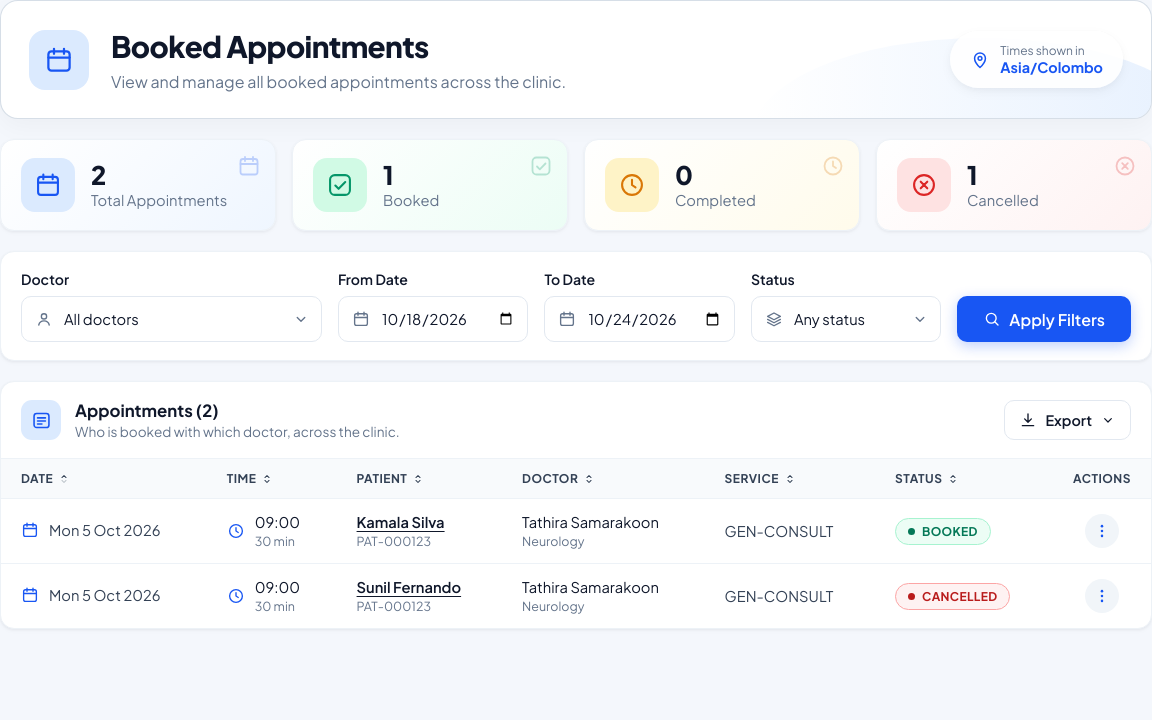
Test: ClinicAppointmentsPage › filters by status without asking the service again
The image size is (1152, 720).
Check: the link "Sunil Fernando" is shown, box [357,578,461,596]
Select "Booked" in the dropdown labelled "Status" at (846, 319), box [751,296,941,342]
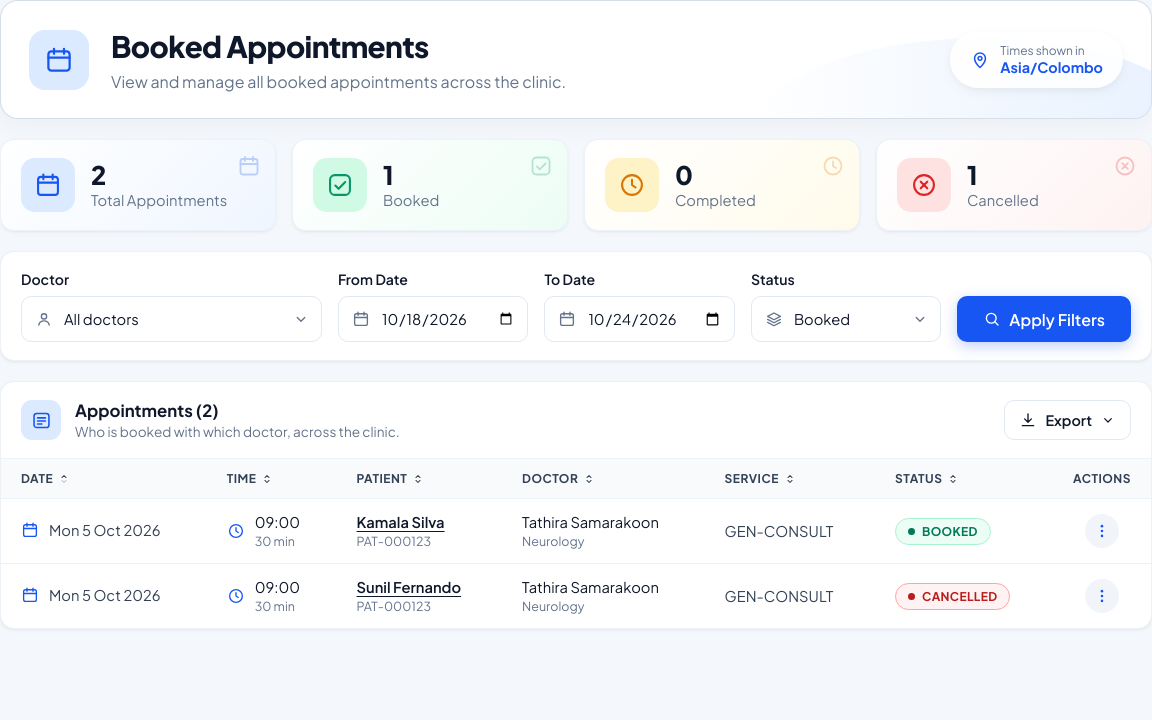
Click the button "Apply Filters" at (1044, 319), box [957,296,1131,342]
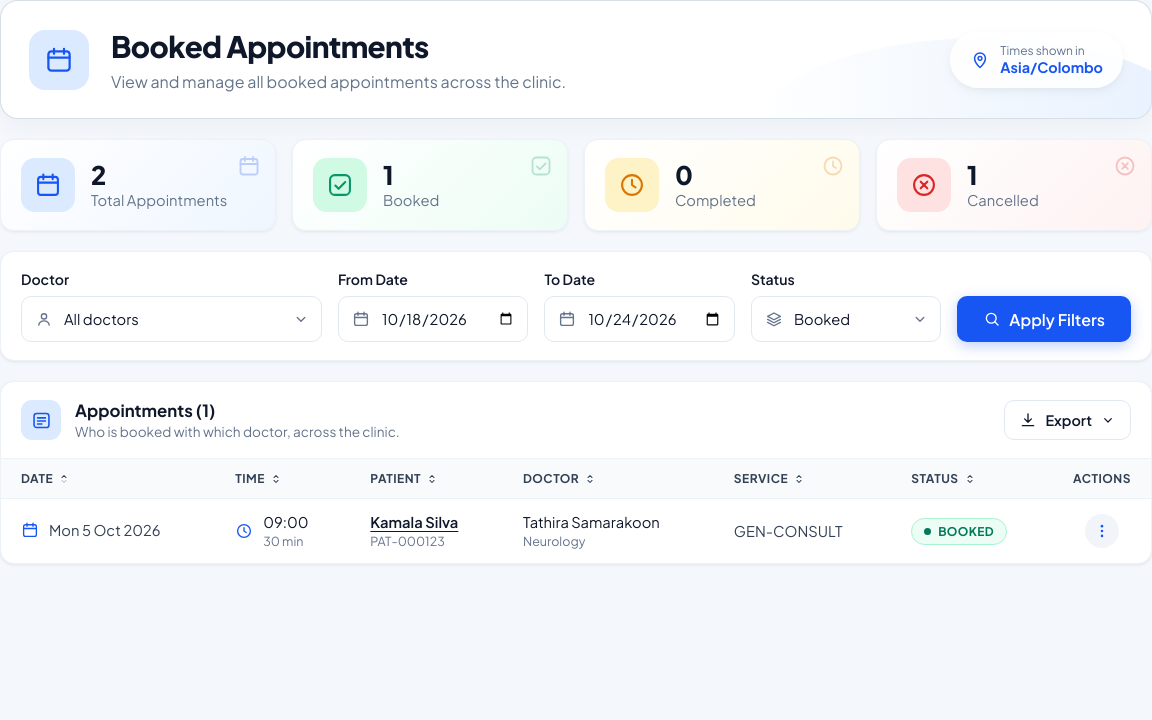
Check: the link "Kamala Silva" is shown, box [370,513,458,531]
Check: the link "Sunil Fernando" is gone
